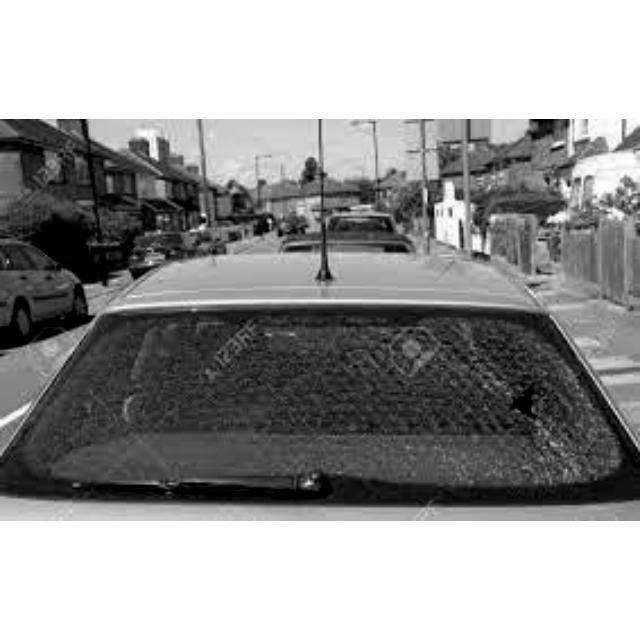Rear-windscreen-Damage: (39, 314, 622, 519)
